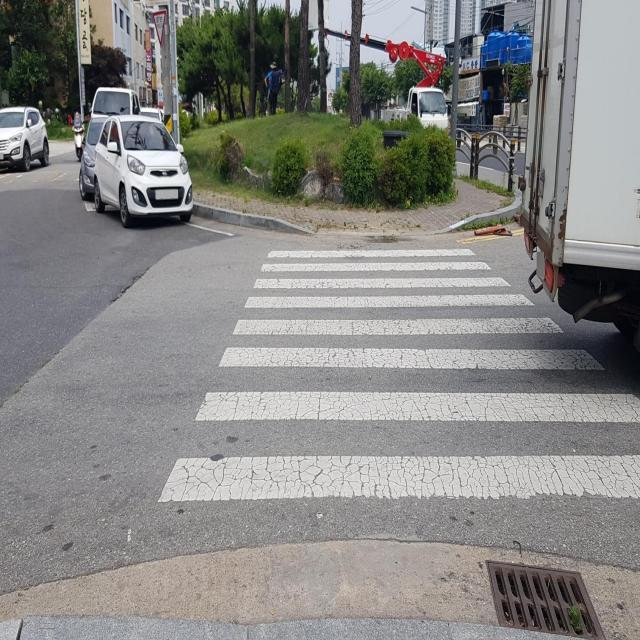횡단보도: (154, 239, 640, 509)
